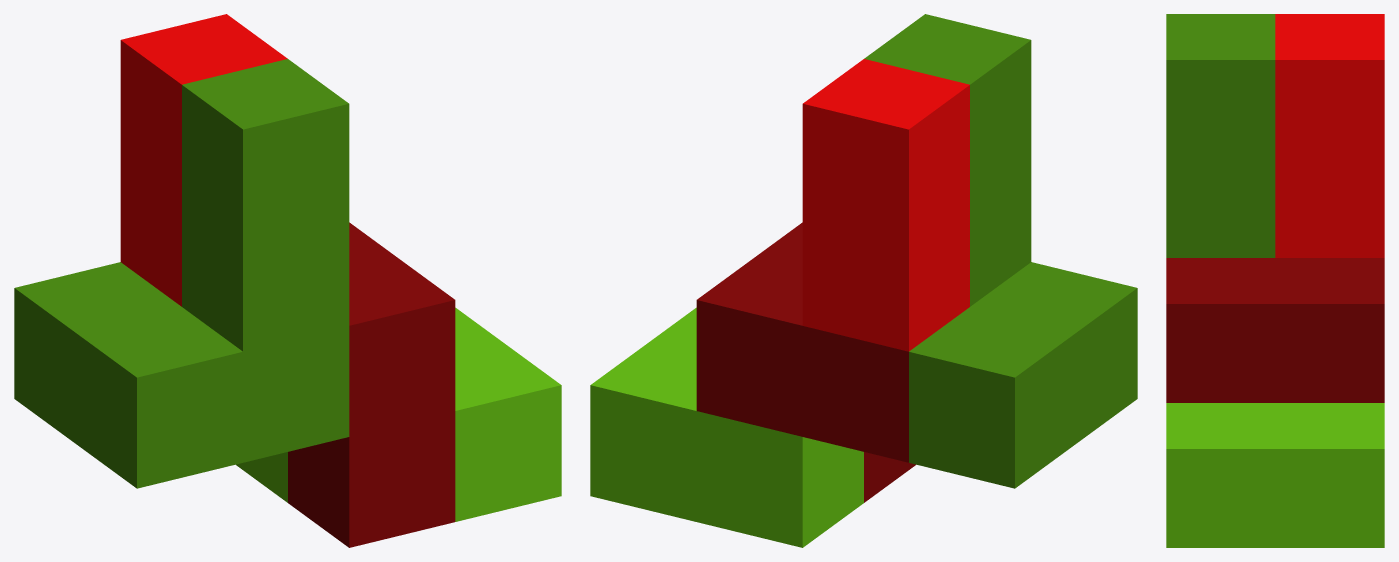
3 renders of one model, left to right at view 1: azimuth 30°, elevation 25°; view 2: azimuth 150°, elevation 25°; view 3: azimuth 270°, elevation 25°, orthographic. The views are drawn at different scales.
Parts seen in each view (by area): view 1: mergedBlocks(Clone); view 2: mergedBlocks(Clone); view 3: mergedBlocks(Clone).
Part boxes in pixels (<box>): mergedBlocks(Clone): <box>14,14,561,547</box>; mergedBlocks(Clone): <box>590,14,1137,547</box>; mergedBlocks(Clone): <box>1166,14,1384,547</box>.
Size of the model in its own units: 4 by 4 by 2.
4 materials, 4 textured.
